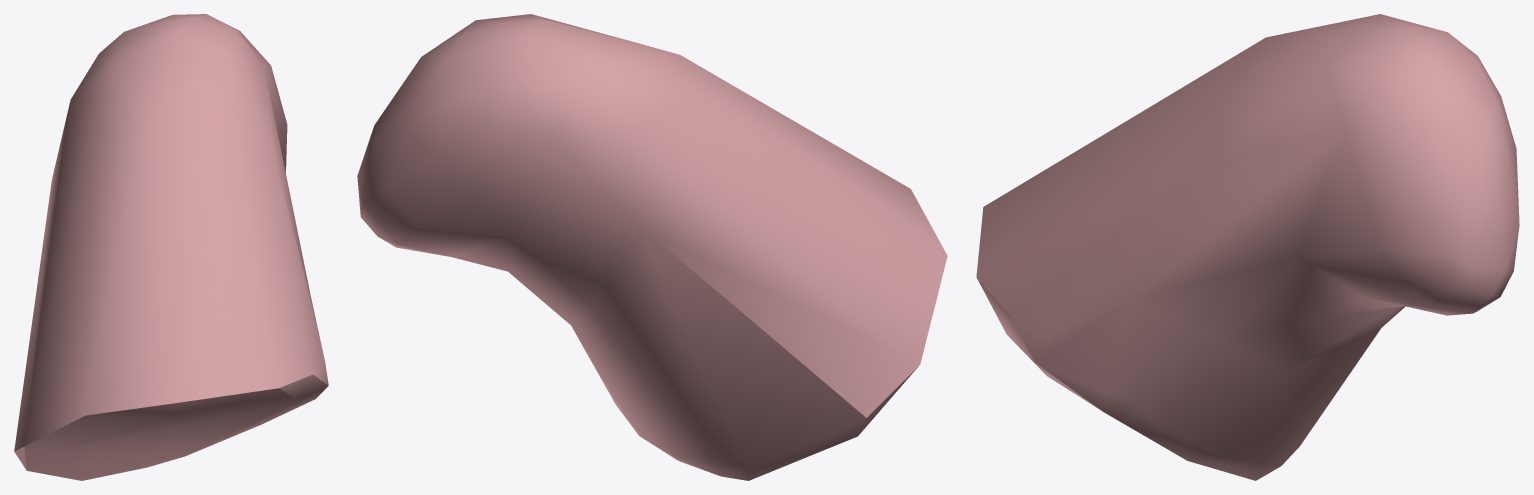
Rendered from fma55115_fj2793.glb.
3 renders of one model, left to right at view 1: azimuth 30°, elevation 25°; view 2: azimuth 150°, elevation 25°; view 3: azimuth 270°, elevation 25°, orthographic. The views are drawn at different scales.
Visible parts, largest first — view 1: FMA55115_FJ2793; view 2: FMA55115_FJ2793; view 3: FMA55115_FJ2793.
Boxes of the visible parts, <box> form: FMA55115_FJ2793: <box>14,14,328,480</box>; FMA55115_FJ2793: <box>357,14,947,480</box>; FMA55115_FJ2793: <box>976,14,1519,480</box>.
Bounding box in the file's own units: 0.00151 × 0.00156 × 0.00158.
